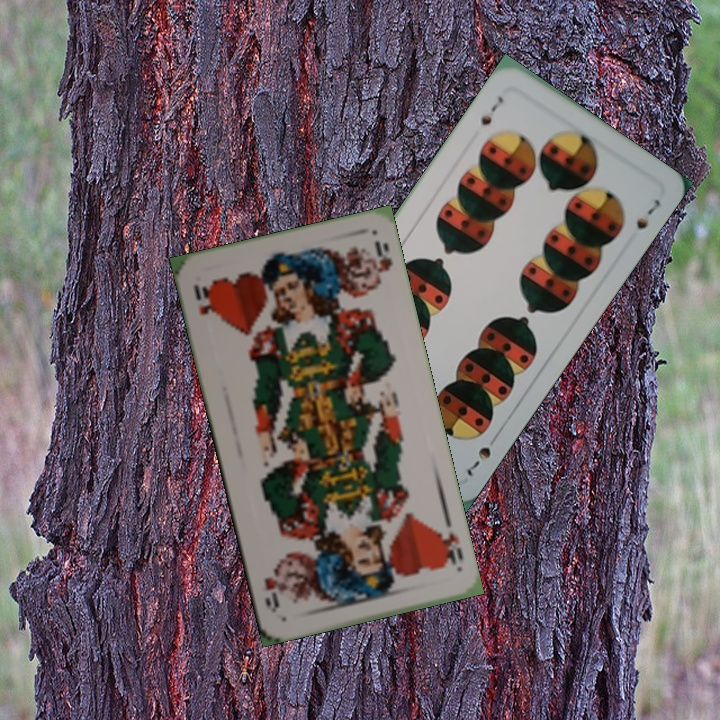HO: (433, 514, 466, 570), (190, 280, 217, 318)
S7: (462, 442, 494, 480), (476, 92, 506, 128)
